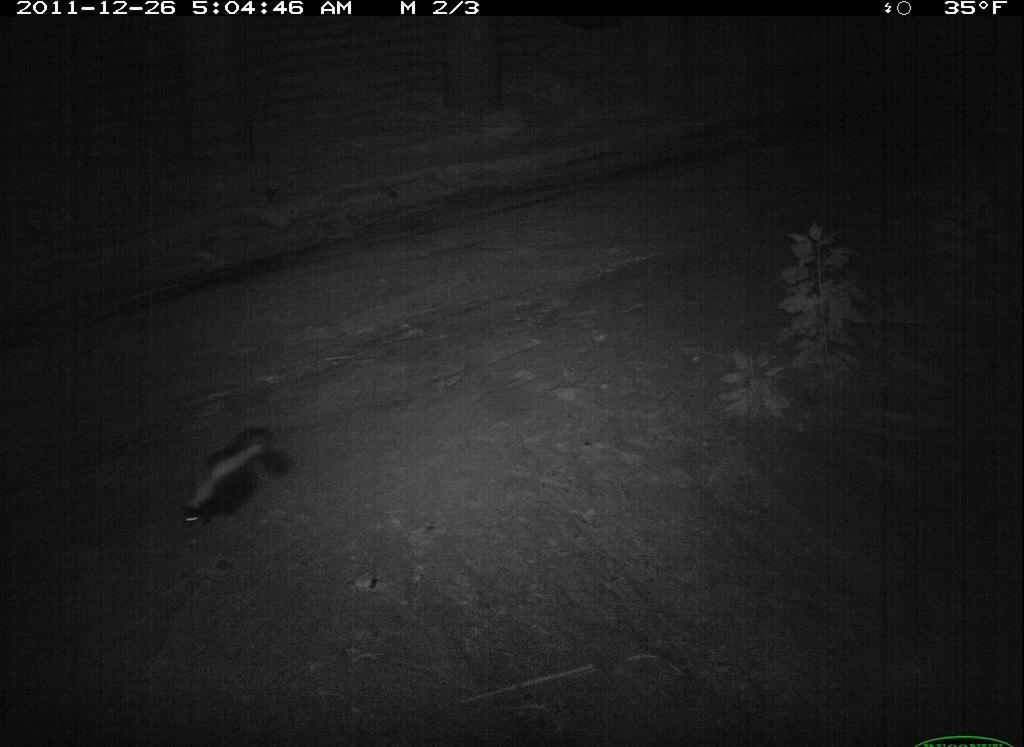skunk: (148, 414, 321, 549)
